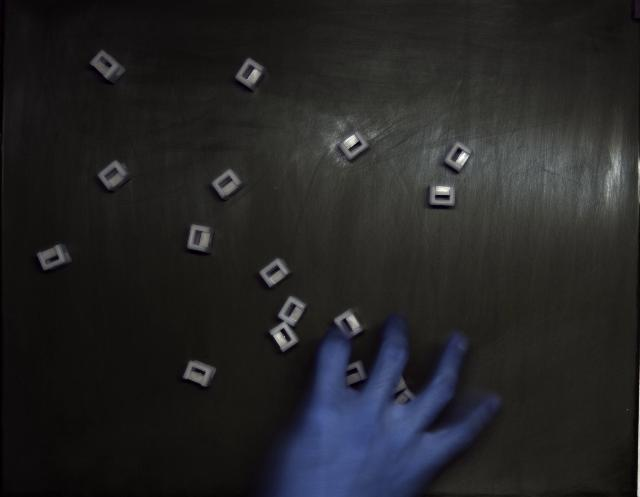fourth_side: (90, 50, 125, 84), (98, 160, 134, 191), (211, 169, 245, 200), (235, 58, 266, 91), (182, 360, 216, 388), (36, 244, 71, 271), (259, 259, 291, 288), (278, 296, 308, 326), (334, 309, 364, 339), (270, 322, 299, 352), (339, 131, 369, 160), (444, 141, 472, 172), (188, 224, 214, 254), (429, 186, 455, 206)
